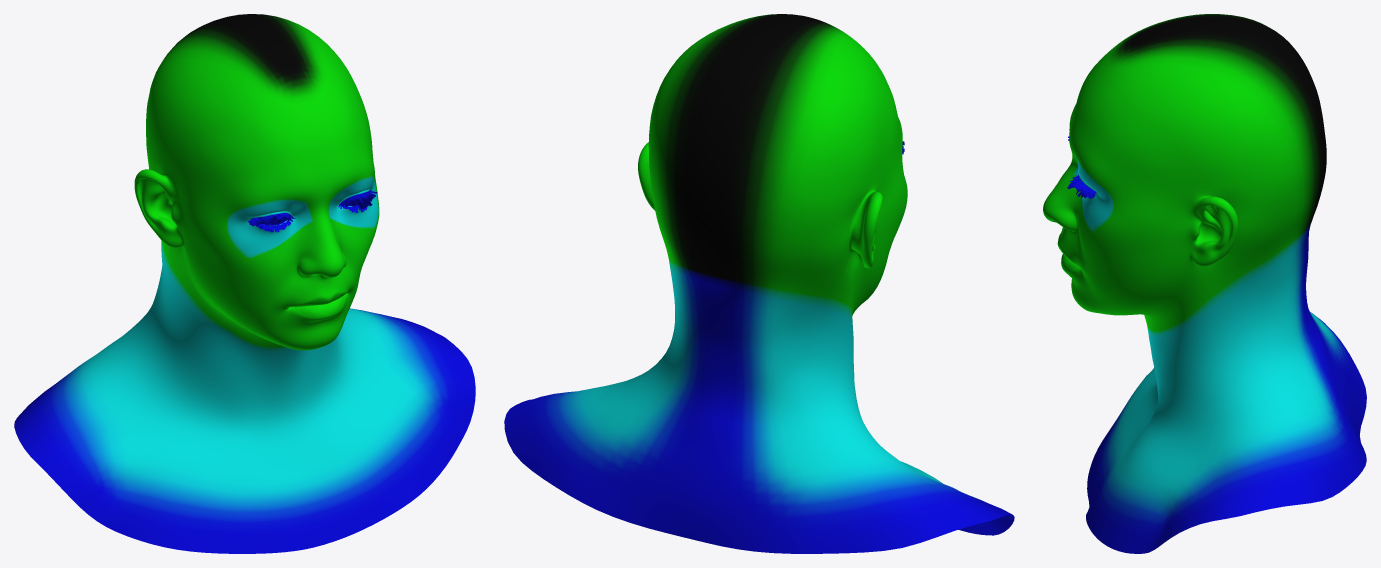
3 views of the same model, side by side, from view 1: azimuth 30°, elevation 25°; view 2: azimuth 150°, elevation 25°; view 3: azimuth 270°, elevation 25° (orthographic). The views are drawn at different scales.
Visible parts, largest first — view 1: Taro_FaceMesh_LOD0; view 2: Taro_FaceMesh_LOD0; view 3: Taro_FaceMesh_LOD0.
Boxes of the visible parts, <box> form: Taro_FaceMesh_LOD0: <box>14,14,475,553</box>; Taro_FaceMesh_LOD0: <box>504,14,1014,553</box>; Taro_FaceMesh_LOD0: <box>1043,14,1366,553</box>.
Bounding box in the file's own units: 1.37 × 1.45 × 0.8826.
